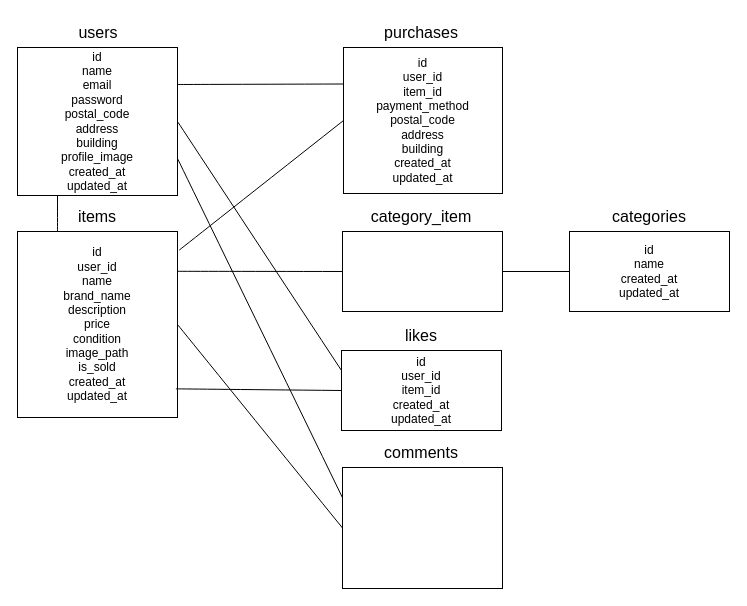
This 747x606 diagram has some shape labels left out. Each missing label, with the box of its shape:
id item_id category_id created_at updated_at: (342, 230, 502, 312)
id user_id item_id content created_at updated_at: (342, 466, 502, 588)
